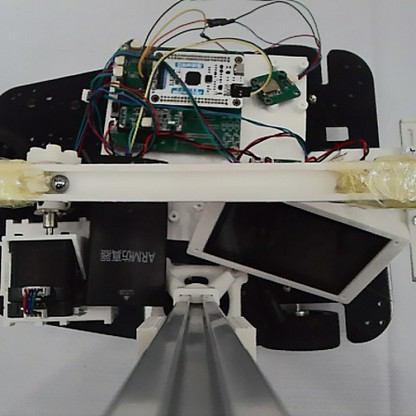ironball: (49, 171, 70, 194)
